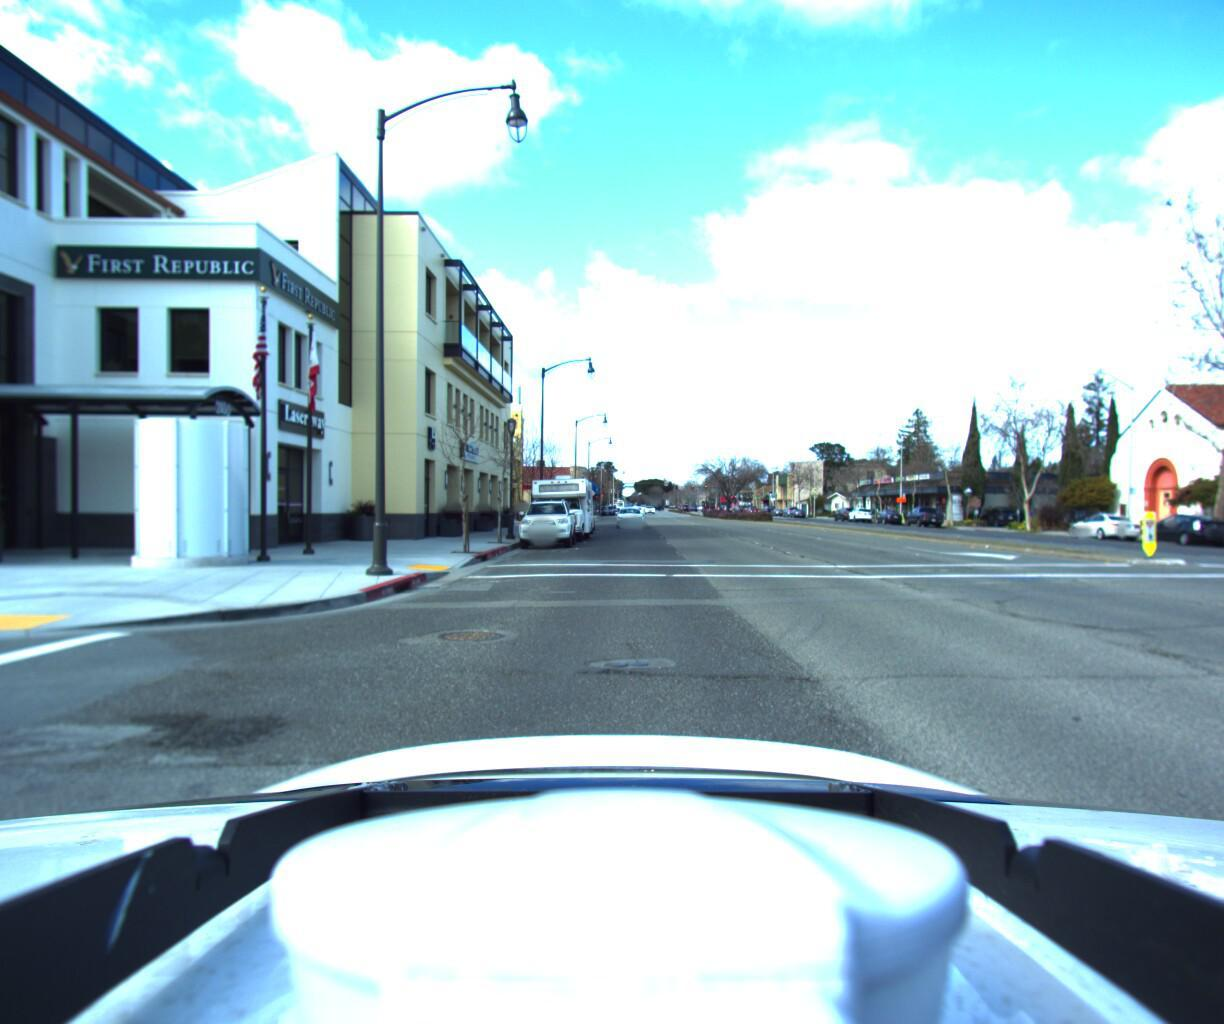car: (1130, 511, 1224, 549), (513, 498, 572, 549), (1060, 513, 1144, 542), (975, 506, 1023, 528), (898, 507, 944, 528), (1208, 513, 1224, 557), (616, 506, 645, 529), (870, 511, 902, 525)
other_vehicle: (521, 472, 590, 546)
